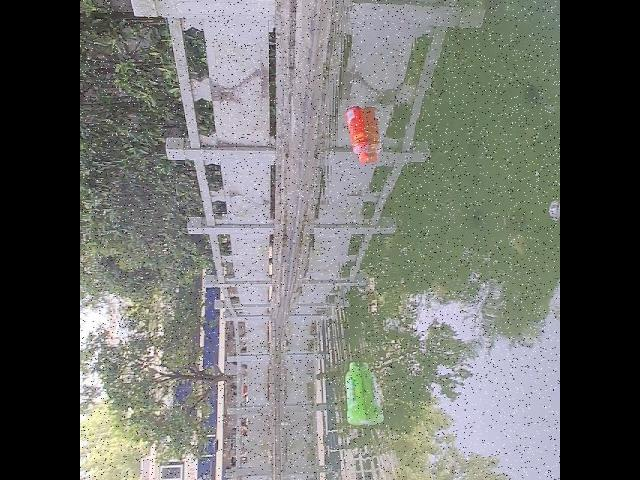Bottle: (342, 354, 376, 433), (342, 99, 377, 167)
